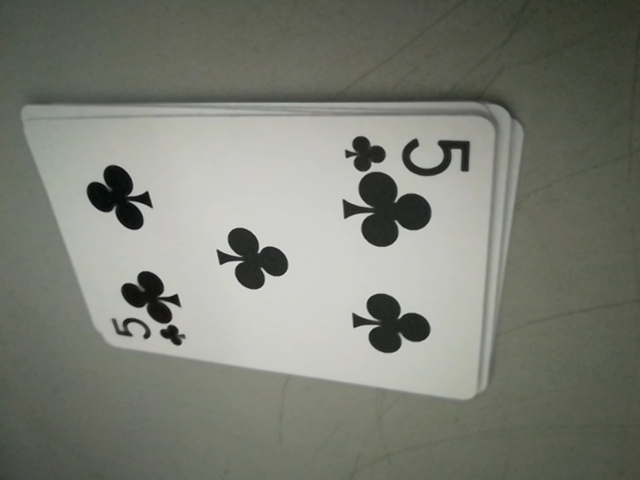mh 5: (343, 127, 477, 176), (104, 314, 189, 350)
